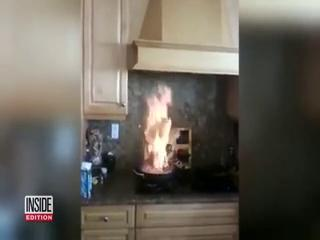Fire: (136, 85, 182, 178)
